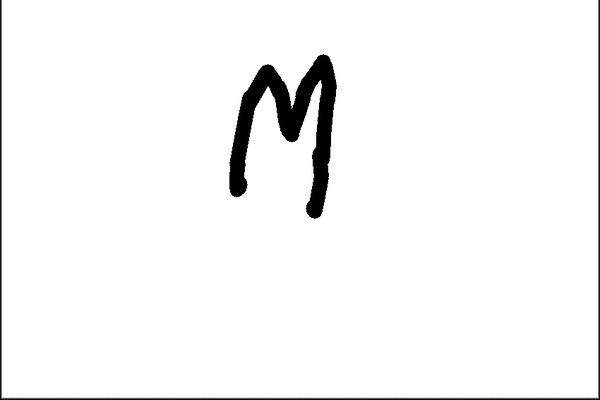M: (222, 47, 327, 218)
